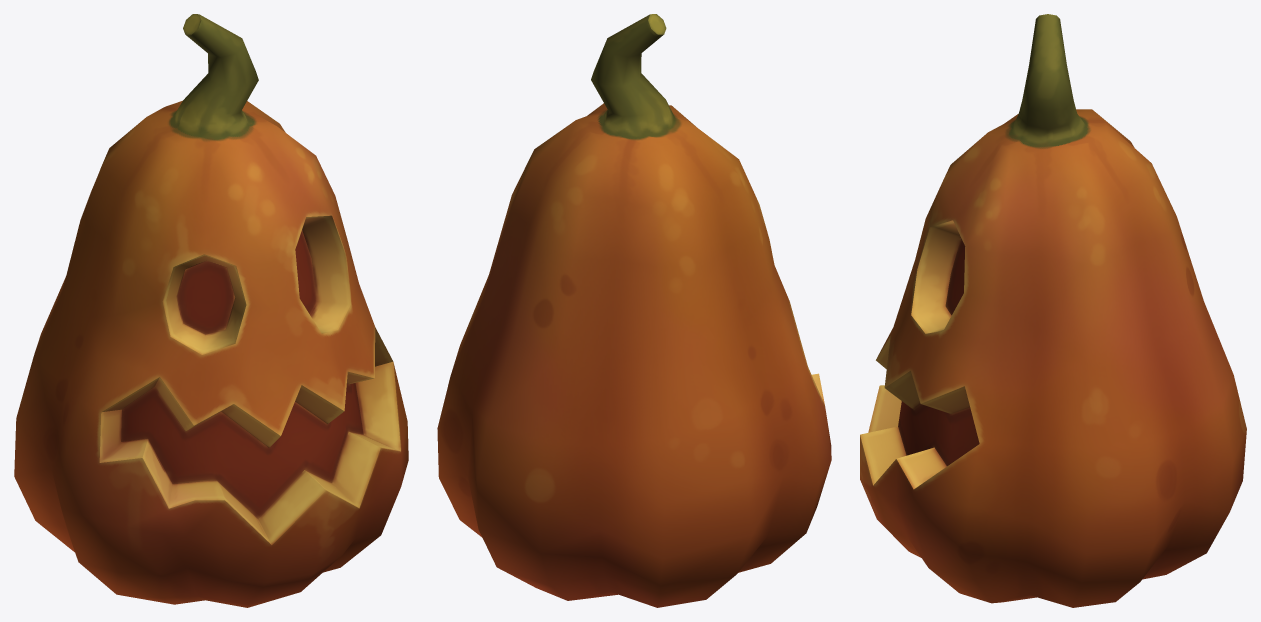
The model's file is pumpkin02.fbx.
3 renders of one model, left to right at view 1: azimuth 30°, elevation 25°; view 2: azimuth 150°, elevation 25°; view 3: azimuth 270°, elevation 25°, orthographic. The views are drawn at different scales.
Parts seen in each view (by area): view 1: pumpkin02; view 2: pumpkin02; view 3: pumpkin02.
Part boxes in pixels (x1,y1,x2,y2): pumpkin02: [14, 14, 408, 607]; pumpkin02: [437, 14, 831, 607]; pumpkin02: [860, 14, 1246, 607].
Bounding box in the file's own units: 80.8 × 130 × 82.08.
